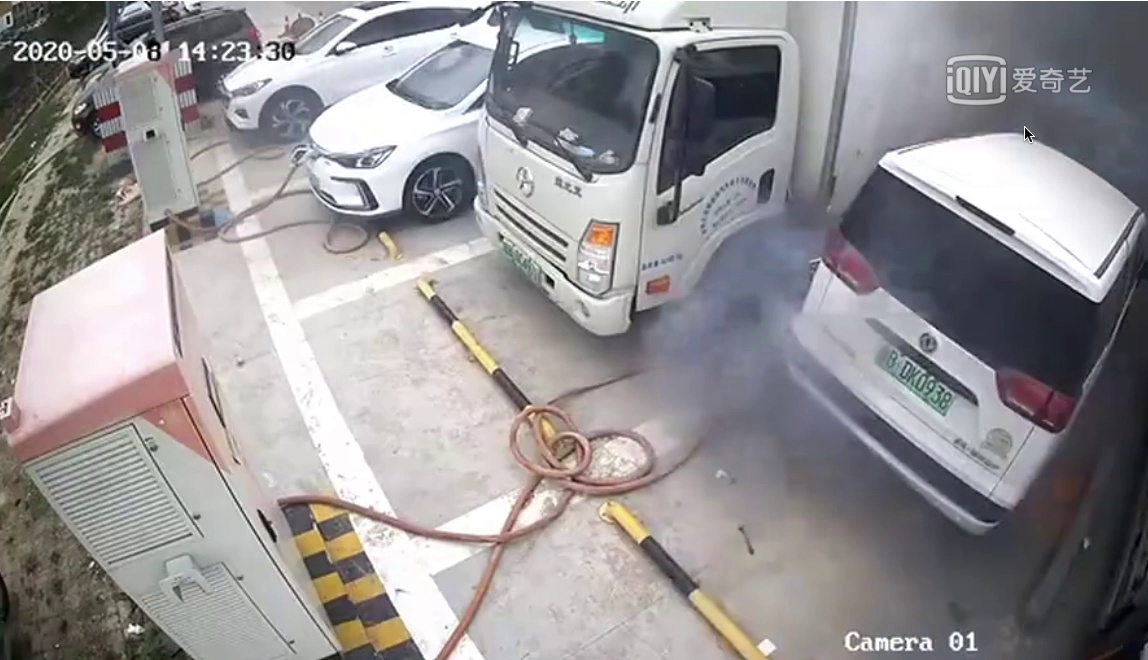smoke: (657, 256, 822, 453)
